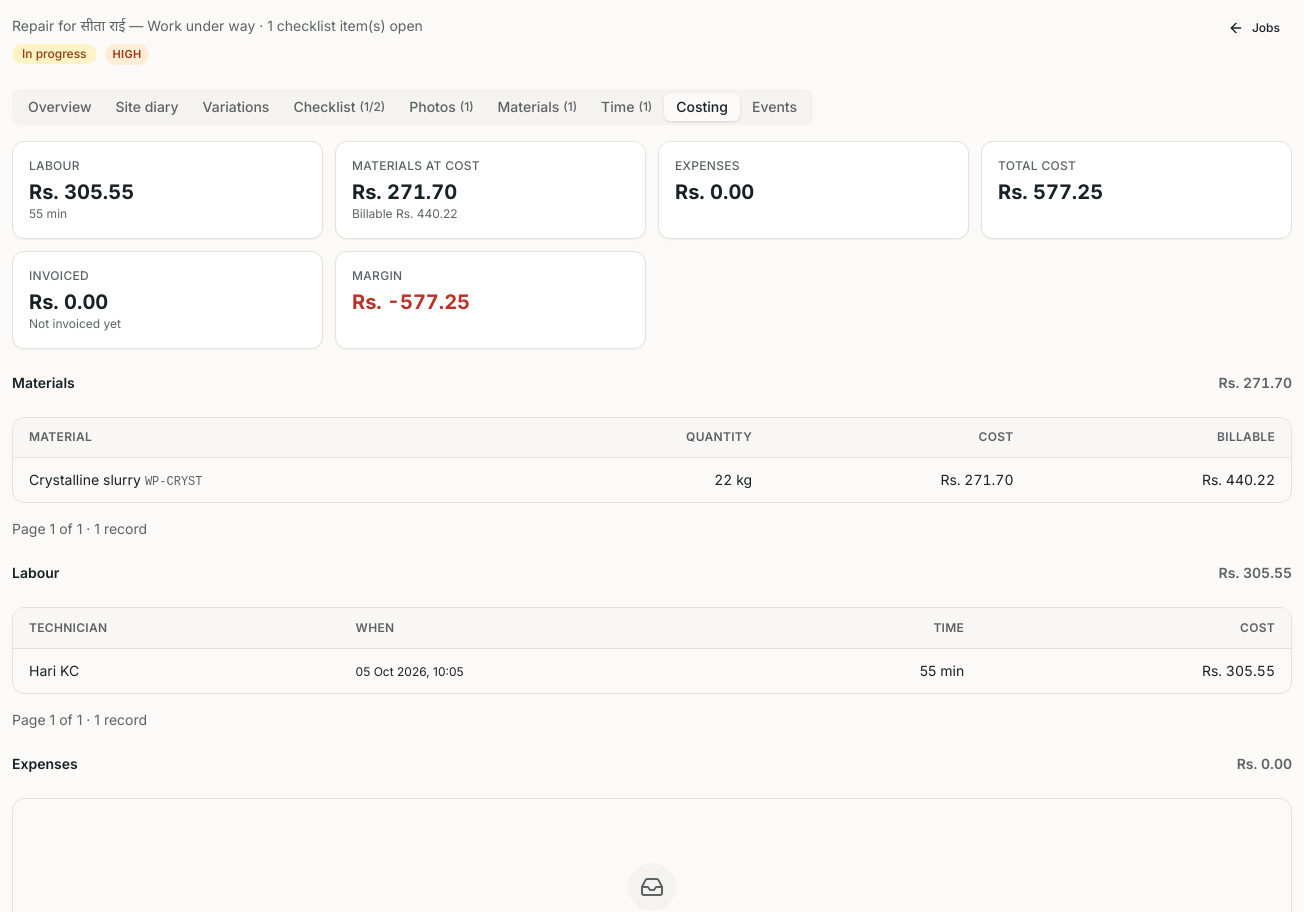
JobDetailPage › shows costing to the paisa to a manager, and the events with where they happened
Expected: the text "Rs. 577.25" is shown, 998,180 -> 1103,204
Expected: the text "Billable Rs. 440.22" is shown, 352,206 -> 458,220
What coordinates should you click on to do the following:
click the tab "Events"
I would click on:
 (774, 106)
Its box is 740,92 -> 809,120.
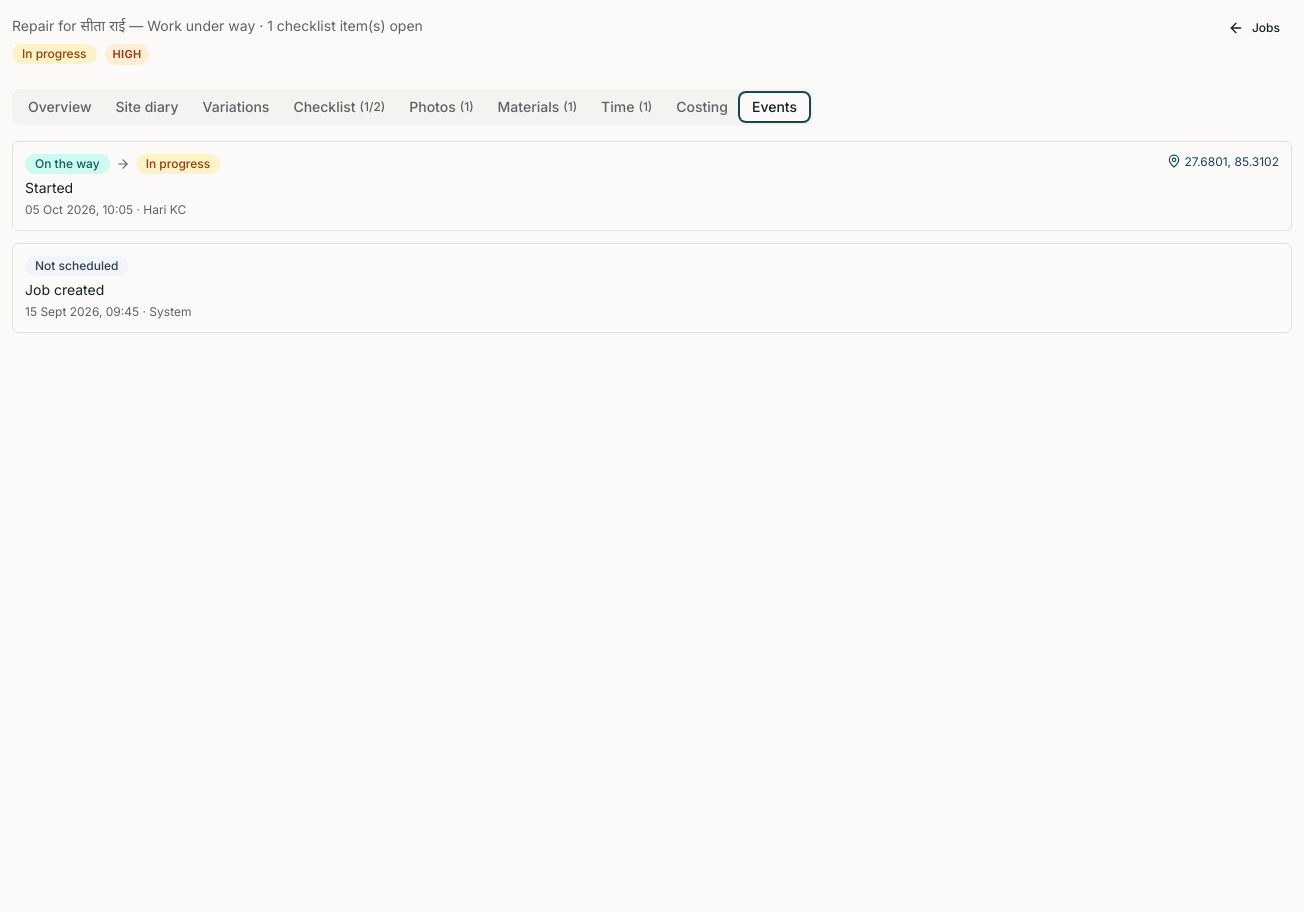
Now the text "System" is shown, box 149,304 -> 192,318
